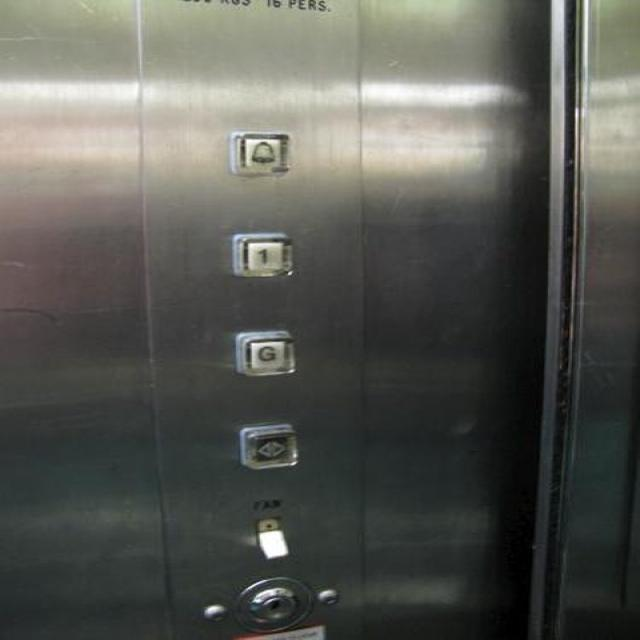1: (233, 231, 291, 276)
G: (236, 331, 295, 377)
alarm: (228, 128, 289, 176)
keyhole: (226, 574, 314, 635)
open: (238, 422, 298, 471)
switch: (247, 510, 293, 565)
